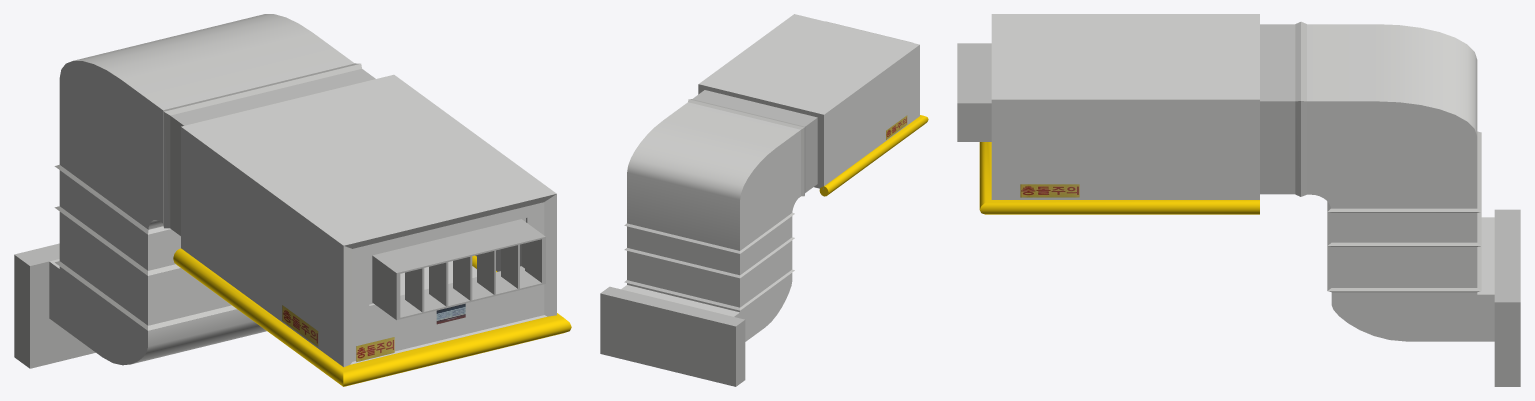
3 views of the same model, side by side, from view 1: azimuth 30°, elevation 25°; view 2: azimuth 150°, elevation 25°; view 3: azimuth 270°, elevation 25° (orthographic). The views are drawn at different scales.
Parts seen in each view (by area): view 1: RM1-OH10W070D180; view 2: RM1-OH10W070D180; view 3: RM1-OH10W070D180.
Part boxes in pixels (bbox=[...]): RM1-OH10W070D180: bbox=[14, 14, 571, 386]; RM1-OH10W070D180: bbox=[600, 14, 928, 386]; RM1-OH10W070D180: bbox=[957, 14, 1520, 386].
Bounding box in the file's own units: 0.7 × 1 × 1.8.
Materials: 5 (2 with a texture image).
